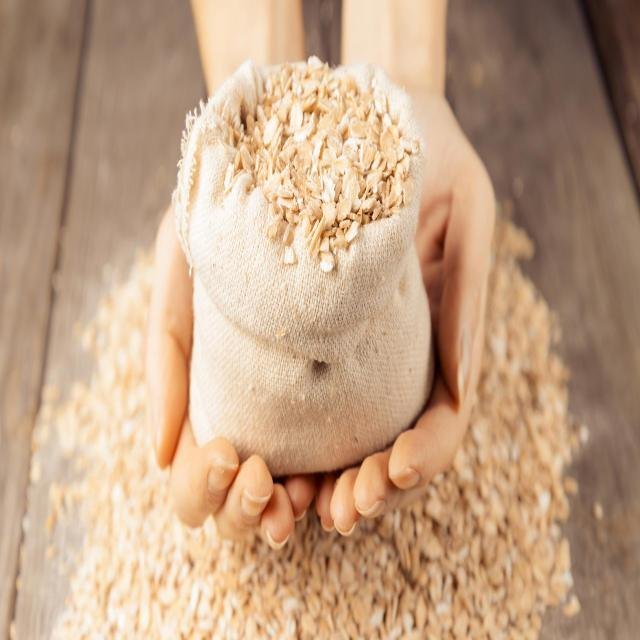avena: (186, 41, 446, 292)
